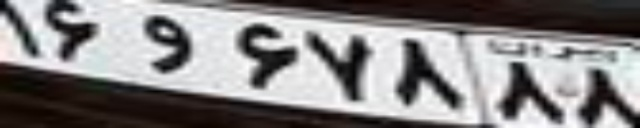1: (0, 0, 41, 58)
6: (233, 22, 297, 89), (42, 0, 103, 61)
7: (304, 28, 371, 101)
8: (391, 39, 462, 107), (493, 61, 564, 122), (574, 68, 638, 127)
vav: (140, 13, 192, 73)
